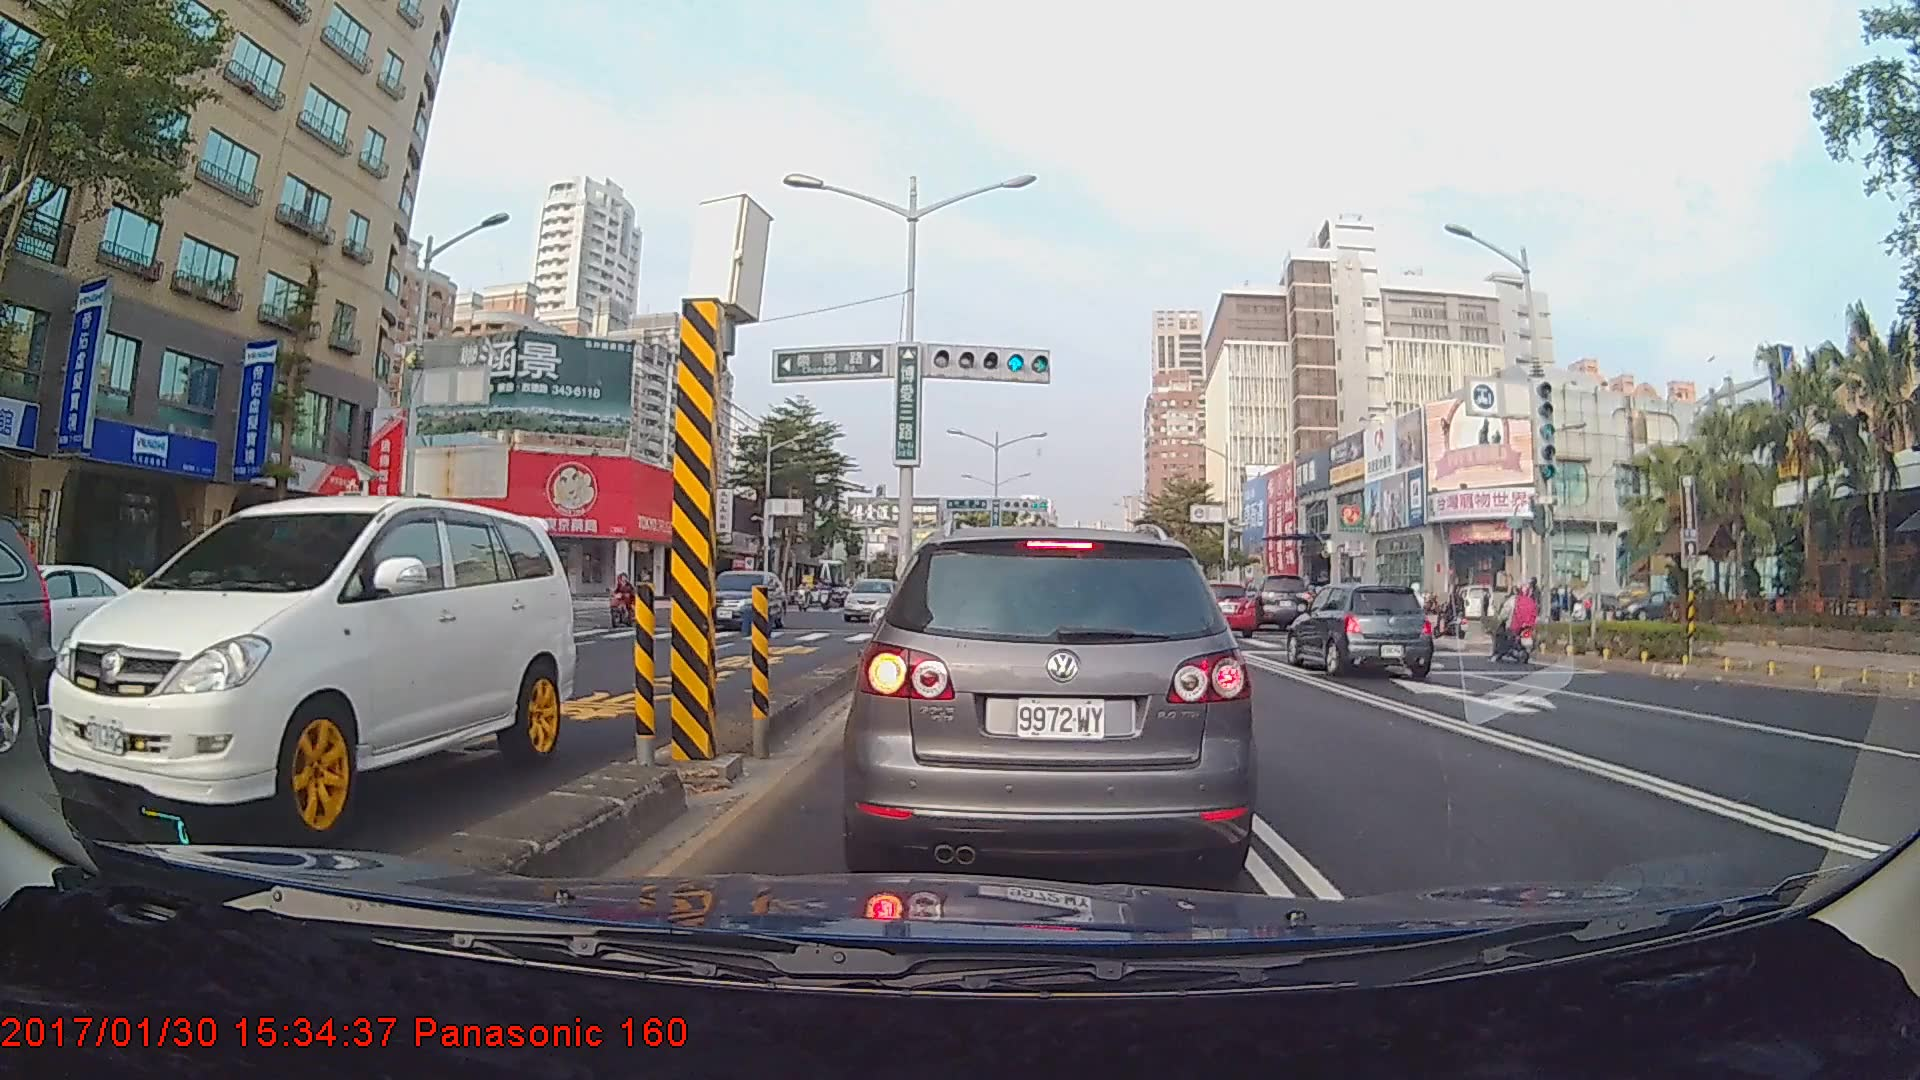rider: (1485, 582, 1548, 668), (1436, 582, 1473, 646), (605, 566, 638, 634)
vehicle: (46, 489, 573, 849), (856, 523, 1245, 880), (0, 561, 158, 671), (1283, 582, 1433, 678), (693, 569, 785, 631), (1236, 571, 1312, 632), (1183, 581, 1256, 639), (841, 577, 899, 620)
